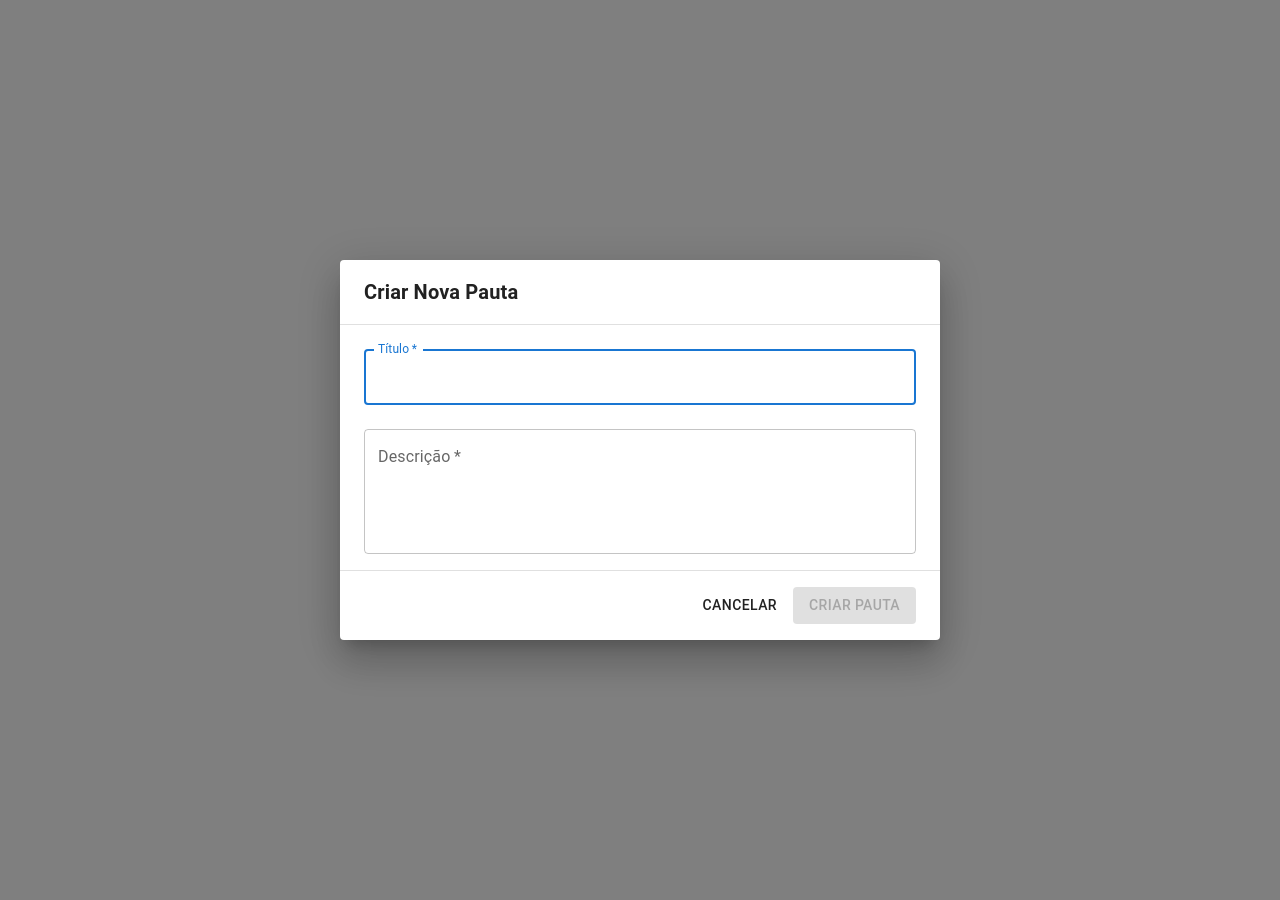
Test case: Integration: CreateAgendaDialog › deve exibir feedback de erro e não fechar o modal em caso de falha da API
In the field labelled "Título *": (640, 377) left=364, top=349, right=916, bottom=405, type "Pauta Falha"
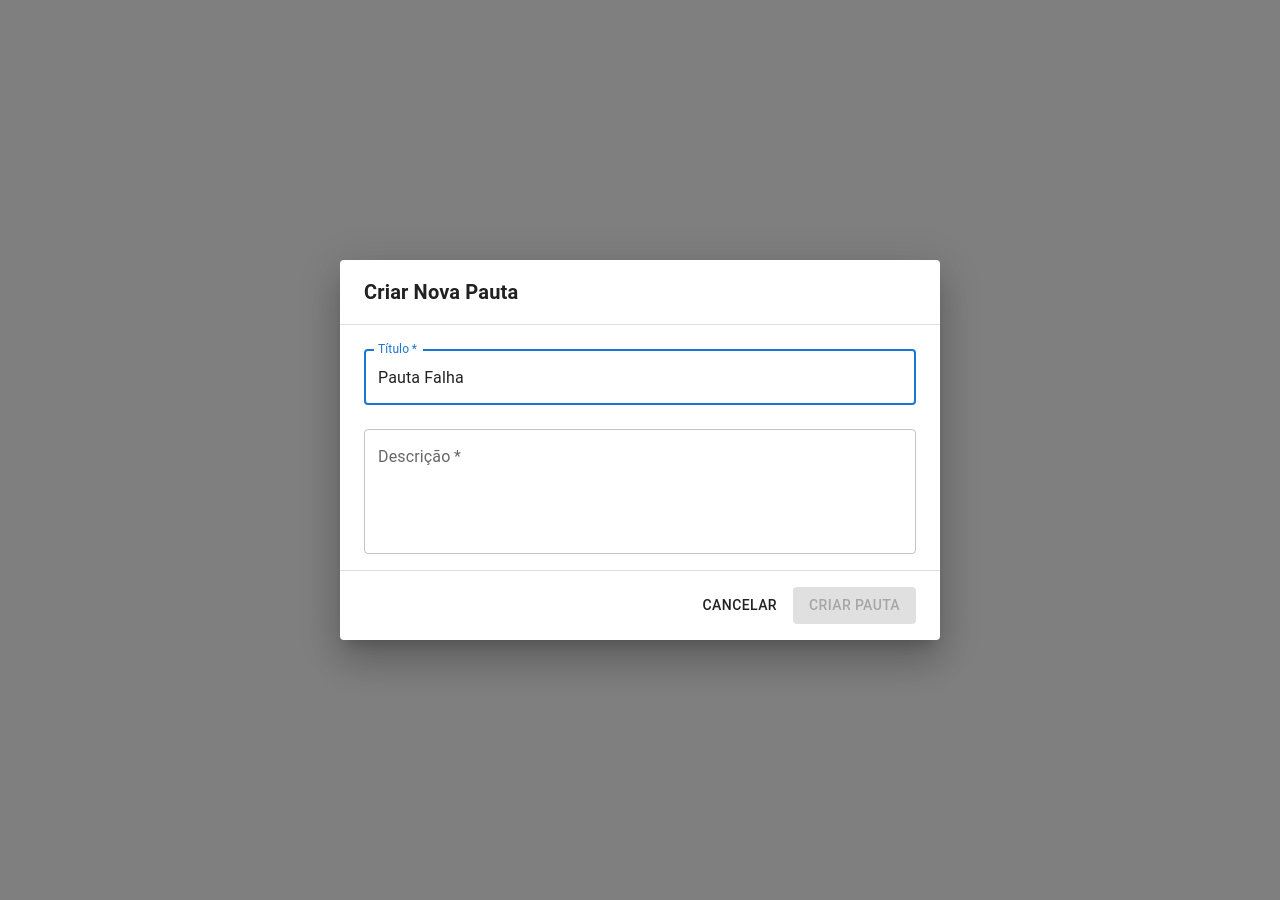
In the text box labelled "Descrição *": (640, 492) left=378, top=446, right=902, bottom=538, type "Vai dar erro"
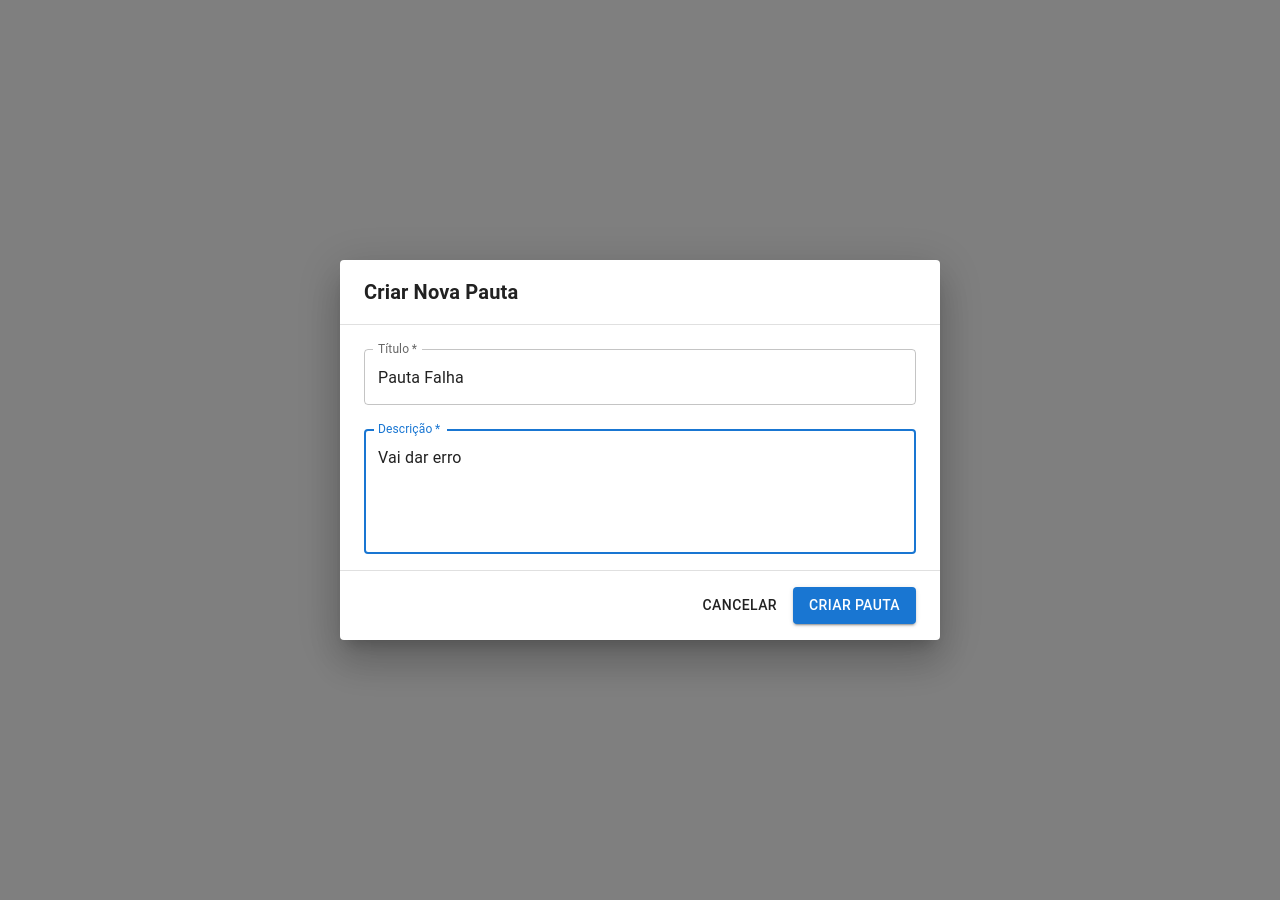
Click the button "Criar Pauta": click(854, 606) left=793, top=587, right=916, bottom=624
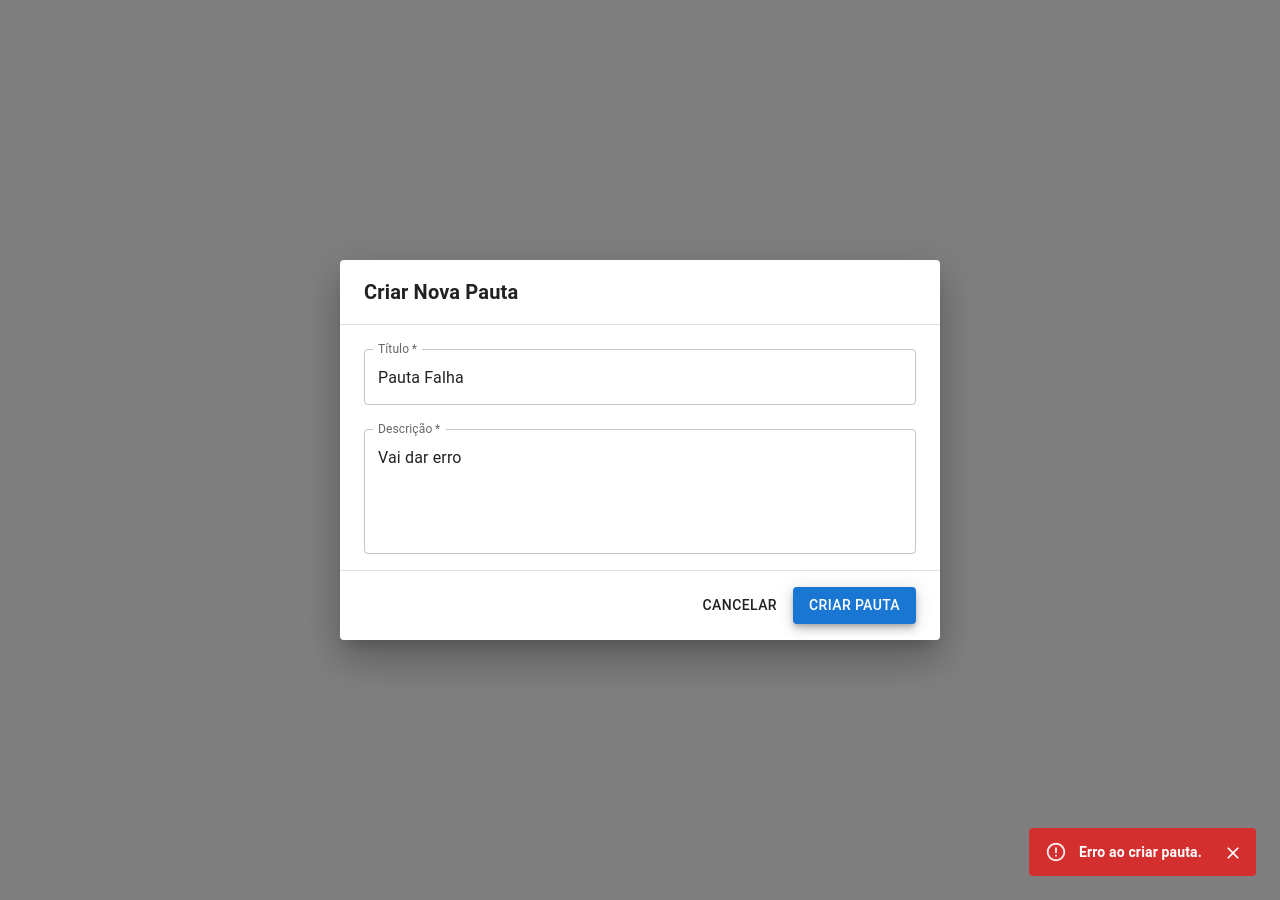
Expected: the text "Erro ao criar pauta." is shown, left=1079, top=844, right=1202, bottom=860
